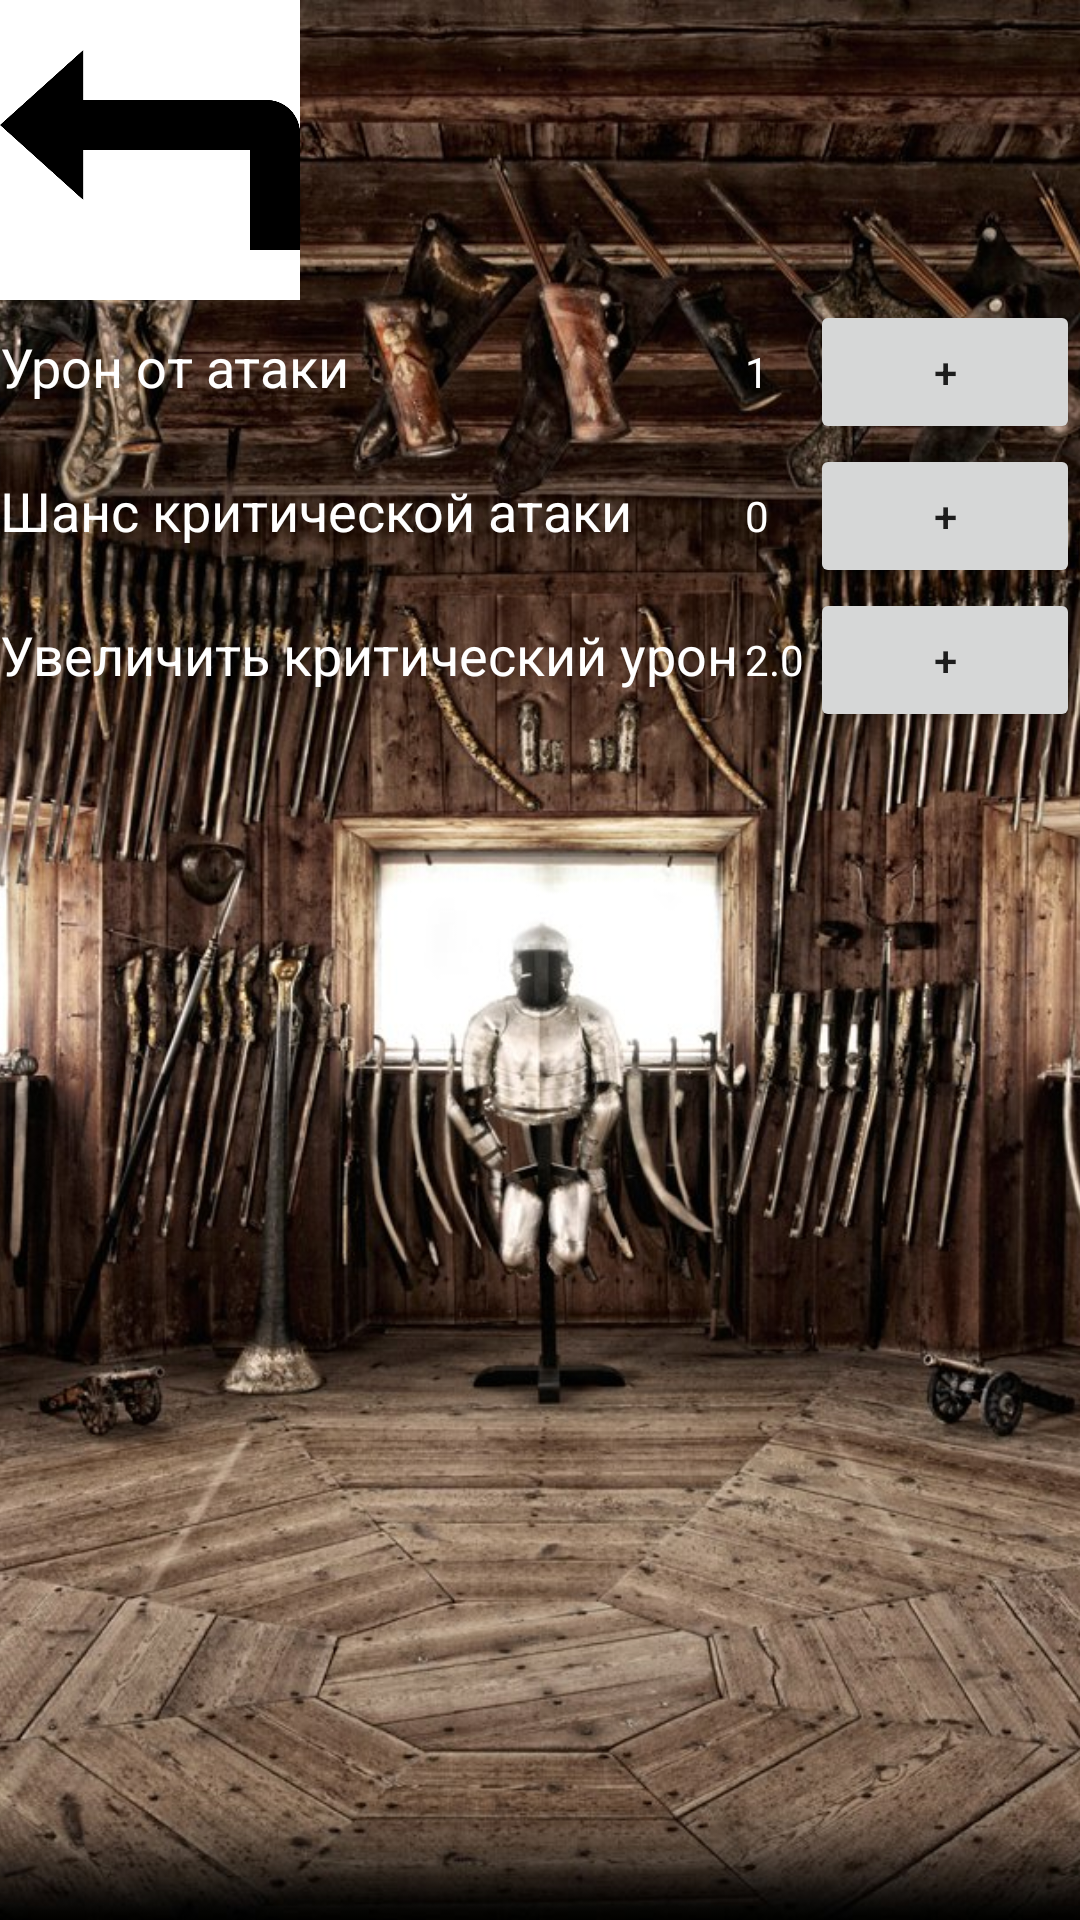

Icons on this 1080px×1920px Android screen, each with its box as (x1, y1, x2, y2):
arrow: (0, 0, 300, 300)
